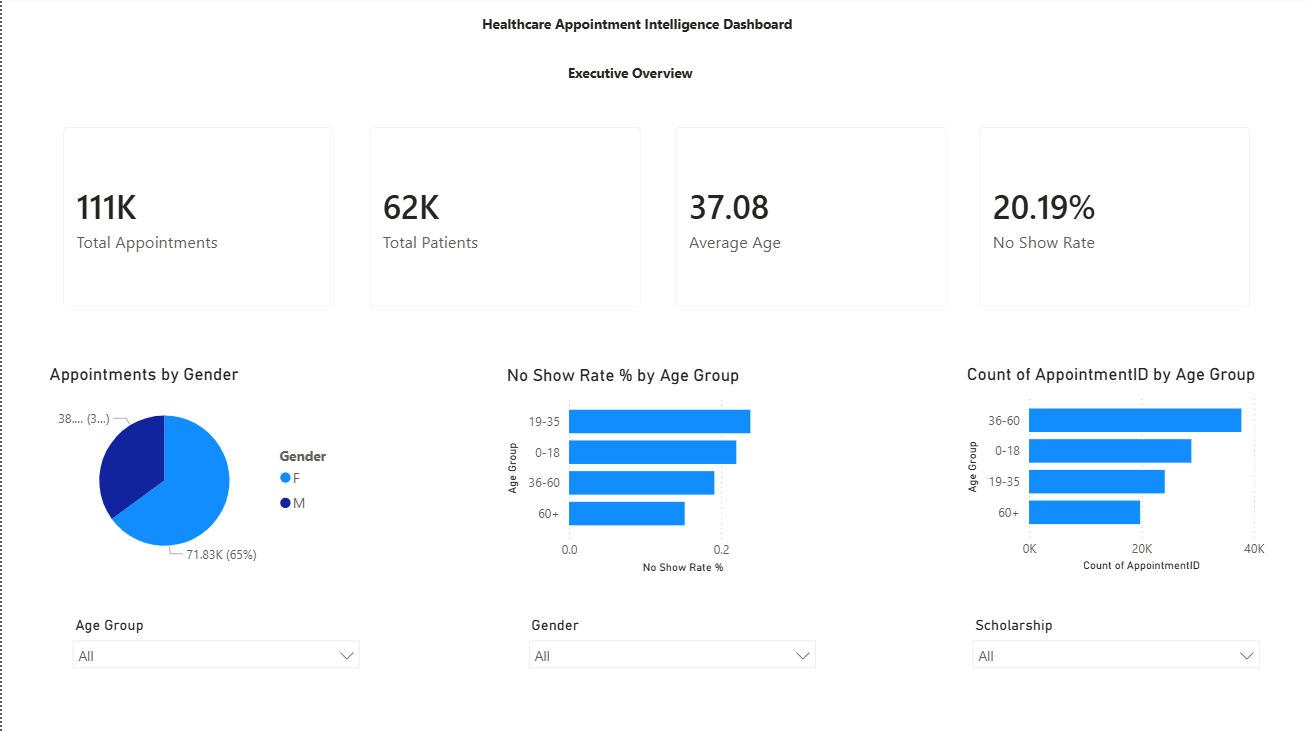

Layout of this report page (visuals, bound fields, positions):
{"tool":"powerbi","page":{"name":"Executive Overview","canvas":[1280,720],"ordinal":0},"visuals":[{"type":"cardVisual","fields":{"Data":["healthcare_db appointments_clean.Total Appointments"]},"box":[42.8,111.3,299.6,210.3],"z":0},{"type":"cardVisual","title":"Unique Patients","fields":{"Data":["healthcare_db appointments_clean.Total Patients"]},"box":[342.4,111.3,300.8,210.3],"z":1000},{"type":"cardVisual","fields":{"Data":["healthcare_db appointments_clean.No Show Rate"]},"box":[939.1,111.3,299.6,210.3],"z":2000},{"type":"cardVisual","fields":{"Data":["healthcare_db appointments_clean.Average Age"]},"box":[642,111.3,300.8,210.3],"z":3000},{"type":"slicer","fields":{"Values":["healthcare_db appointments_clean.Gender"]},"box":[505,601.6,300.8,107.6],"z":4000},{"type":"slicer","fields":{"Values":["healthcare_db appointments_clean.Age Group"]},"box":[58.7,601.6,300.8,107.6],"z":5000},{"type":"slicer","fields":{"Values":["healthcare_db appointments_clean.Scholarship"]},"box":[939.1,601.6,300.8,107.6],"z":6000},{"type":"pieChart","title":"Appointments by Gender","fields":{"Category":["healthcare_db appointments_clean.Gender"],"Y":["CountNonNull(healthcare_db appointments_clean.AppointmentID)"]},"box":[41.6,359.5,300.8,210.3],"z":7000},{"type":"clusteredBarChart","fields":{"Category":["healthcare_db appointments_clean.Age Group"],"Y":["CountNonNull(healthcare_db appointments_clean.AppointmentID)"]},"box":[939.1,359.5,300.8,209.1],"z":8000},{"type":"clusteredBarChart","fields":{"Y":["healthcare_db appointments_clean.No Show Rate %"],"Category":["healthcare_db appointments_clean.Age Group"]},"box":[489.1,360.7,302,209.1],"z":9000},{"type":"textbox","box":[464.7,13.5,327.7,47.7],"z":9001},{"type":"textbox","box":[464.7,61.1,299.6,29.3],"z":9002}]}

Visuals, with their boxes in screenshot pixels (x1, y1, x2, y2), scaled from the page's 1280x720 canvas onto the 1307x732 screenshot:
cardVisual - healthcare_db appointments_clean.Total Appointments: (44, 113, 350, 327)
"Unique Patients" cardVisual: (350, 113, 657, 327)
cardVisual - healthcare_db appointments_clean.No Show Rate: (959, 113, 1265, 327)
cardVisual - healthcare_db appointments_clean.Average Age: (656, 113, 963, 327)
slicer - healthcare_db appointments_clean.Gender: (516, 612, 823, 721)
slicer - healthcare_db appointments_clean.Age Group: (60, 612, 367, 721)
slicer - healthcare_db appointments_clean.Scholarship: (959, 612, 1266, 721)
"Appointments by Gender" pieChart: (42, 365, 350, 579)
clusteredBarChart - healthcare_db appointments_clean.Age Group x CountNonNull(healthcare_db appointments_clean.AppointmentID): (959, 365, 1266, 578)
clusteredBarChart - healthcare_db appointments_clean.No Show Rate % x healthcare_db appointments_clean.Age Group: (499, 367, 808, 579)
textbox: (475, 14, 809, 62)
textbox: (475, 62, 780, 92)
